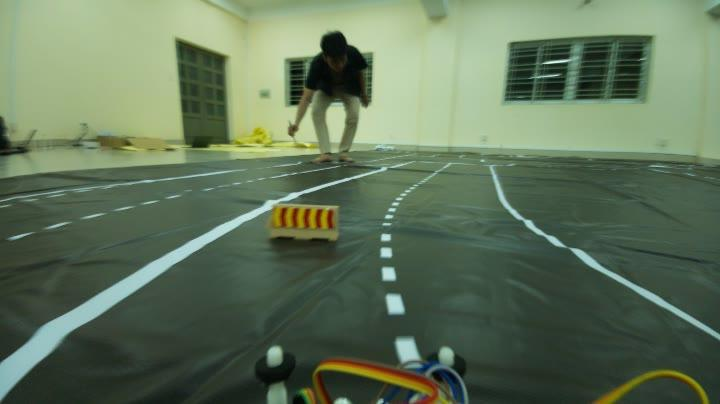roadblock: (266, 202, 346, 248)
